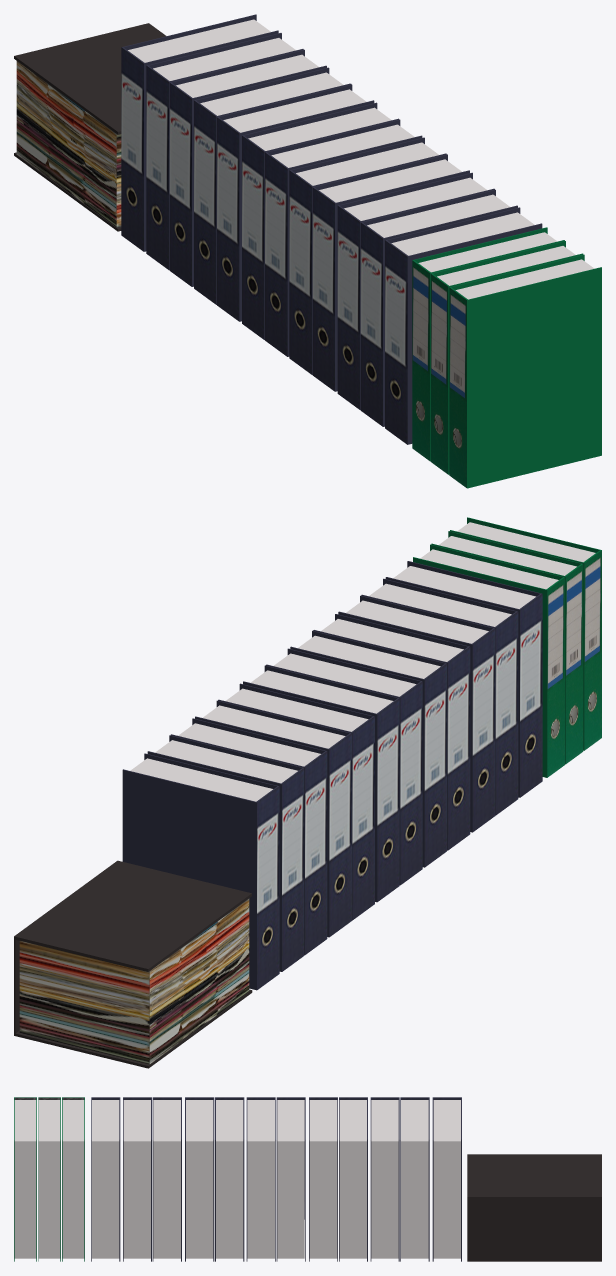
The model's file is Files 3.FBX.
3 renders of one model, top to bottom at view 1: azimuth 30°, elevation 25°; view 2: azimuth 150°, elevation 25°; view 3: azimuth 270°, elevation 25°, orthographic. The views are drawn at different scales.
Parts seen in each view (by area): view 1: Files 3; view 2: Files 3; view 3: Files 3.
Boxes of the visible parts, x1,y1,x2,y2 form: Files 3: [14, 14, 601, 488]; Files 3: [14, 517, 601, 1068]; Files 3: [14, 1097, 601, 1261].
Size of the model in its own units: 18.2 by 106 by 24.15.
1 material, 1 textured.
